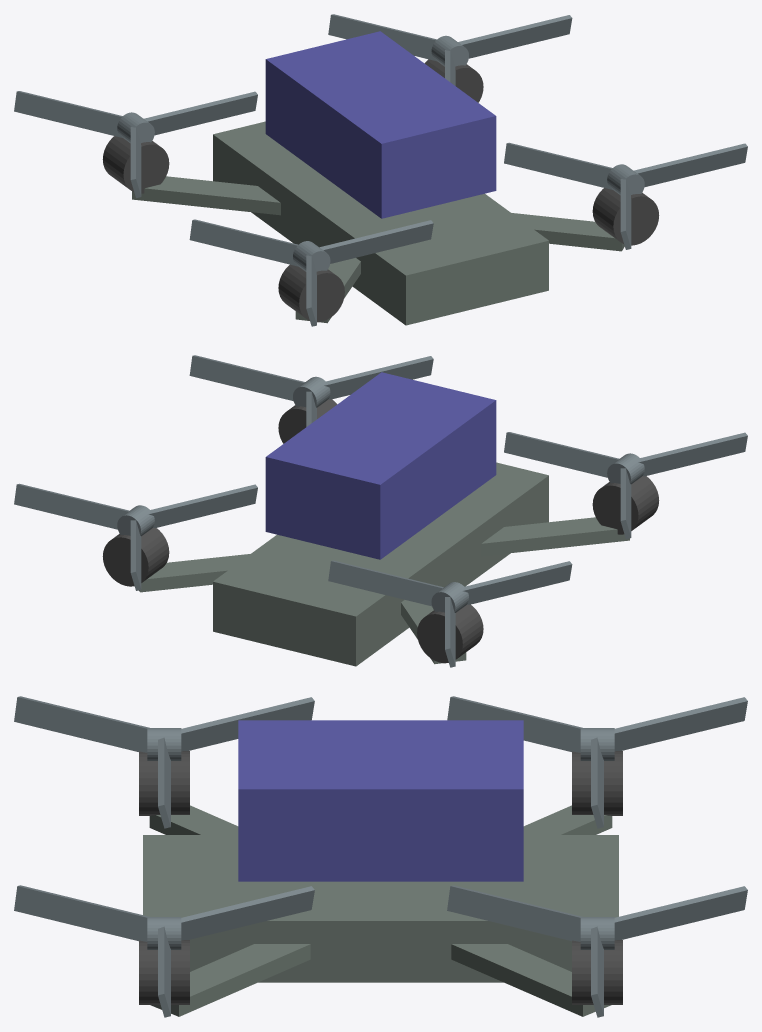
The model's file is Nazgul XL5.glb.
The picture shows the model from 3 angles, top to bottom: view 1: azimuth 30°, elevation 25°; view 2: azimuth 150°, elevation 25°; view 3: azimuth 270°, elevation 25°; orthographic projection. The views are drawn at different scales.
Visible parts, largest first — view 1: battery, frame_body, prop_0, prop_3, prop_2, prop_1, arm_3, motor_2, motor_0, motor_3, arm_0, motor_1 (+1 smaller); view 2: battery, frame_body, prop_2, prop_1, prop_3, prop_0, arm_2, motor_3, motor_1, motor_2, arm_1, motor_0 (+1 smaller); view 3: battery, frame_body, prop_0, prop_1, prop_2, prop_3, arm_1, arm_0, motor_0, motor_1, motor_2, motor_3 (+2 smaller).
Boxes of the visible parts, bbox=[...] form: battery: bbox=[265, 31, 496, 218]; frame_body: bbox=[213, 121, 548, 325]; prop_0: bbox=[504, 142, 747, 249]; prop_3: bbox=[14, 91, 257, 198]; prop_2: bbox=[189, 219, 433, 326]; prop_1: bbox=[328, 14, 572, 85]; arm_3: bbox=[132, 176, 280, 215]; motor_2: bbox=[278, 264, 344, 322]; motor_0: bbox=[592, 188, 659, 245]; motor_3: bbox=[102, 136, 169, 193]; arm_0: bbox=[512, 213, 624, 251]; motor_1: bbox=[424, 59, 483, 102]; battery: bbox=[265, 372, 496, 559]; frame_body: bbox=[213, 462, 548, 666]; prop_2: bbox=[504, 432, 747, 538]; prop_1: bbox=[14, 483, 257, 590]; prop_3: bbox=[328, 560, 572, 667]; prop_0: bbox=[189, 355, 433, 426]; arm_2: bbox=[481, 517, 629, 556]; motor_3: bbox=[417, 604, 483, 663]; motor_1: bbox=[102, 528, 169, 586]; motor_2: bbox=[592, 476, 659, 534]; arm_1: bbox=[139, 554, 249, 592]; motor_0: bbox=[278, 399, 337, 443]; battery: bbox=[238, 720, 523, 881]; frame_body: bbox=[143, 835, 618, 982]; prop_0: bbox=[14, 885, 314, 1017]; prop_1: bbox=[447, 885, 747, 1017]; prop_2: bbox=[14, 696, 314, 828]; prop_3: bbox=[447, 696, 747, 828]; arm_1: bbox=[451, 944, 611, 1016]; arm_0: bbox=[150, 944, 310, 1016]; motor_0: bbox=[139, 940, 189, 1004]; motor_1: bbox=[572, 940, 622, 1004]; motor_2: bbox=[139, 751, 189, 815]; motor_3: bbox=[572, 751, 622, 815].
Bounding box in the file's own units: 0.2083 × 0.06 × 0.2159.
